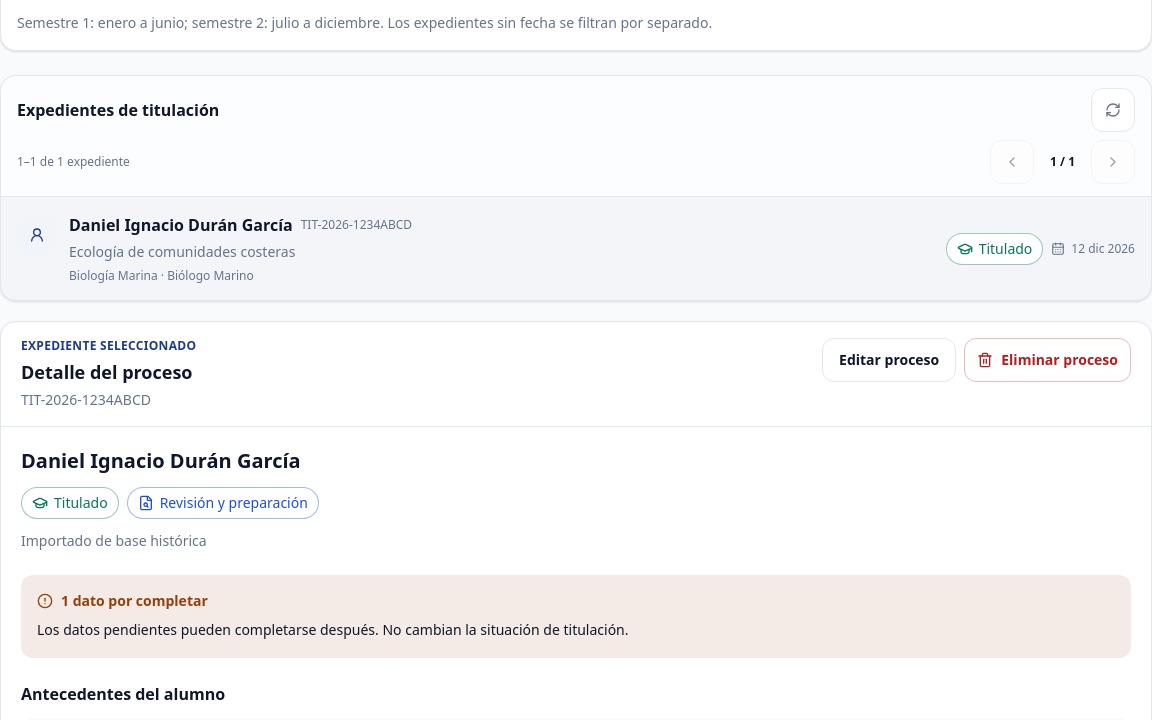
Test: TitulationWorkspace › requires confirmation before permanently deleting a process
(page scrolled)
Click the button "Eliminar proceso" at (1048, 360), box [964, 338, 1131, 382]
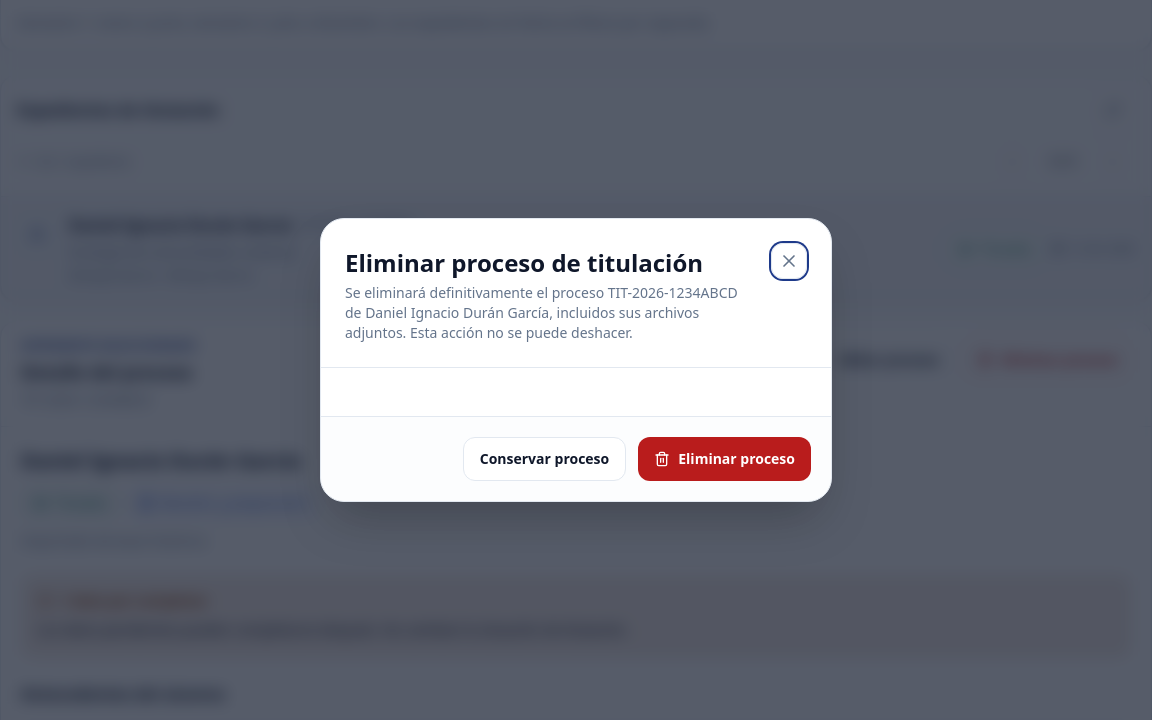
Result: the text "Esta acción no se puede deshacer" is shown at [345, 283, 738, 342]
Click the button "Eliminar proceso" at (725, 459), box [638, 437, 811, 481]
(page scrolled)
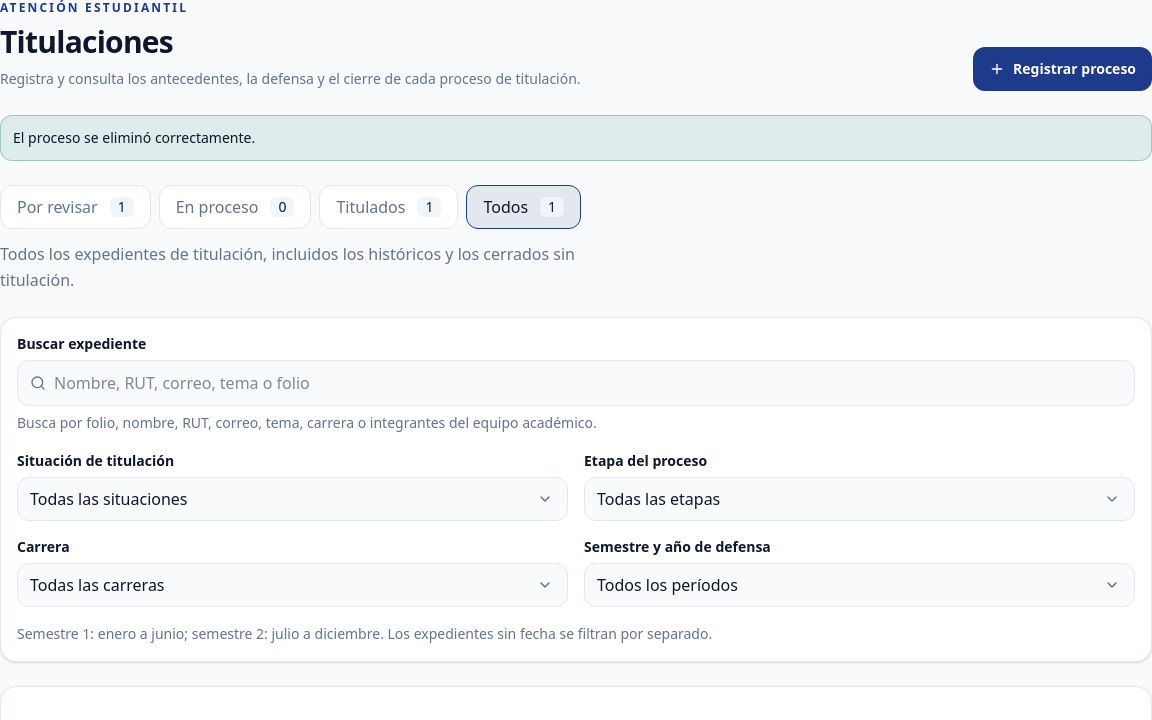
Result: the text "El proceso se eliminó correctamente." is shown at [0, 115, 1151, 161]
Result: the dialog is gone
